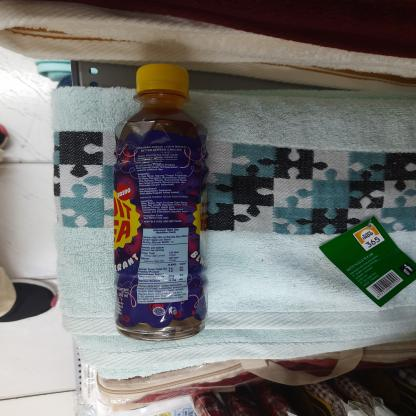bottle: (110, 60, 208, 344)
